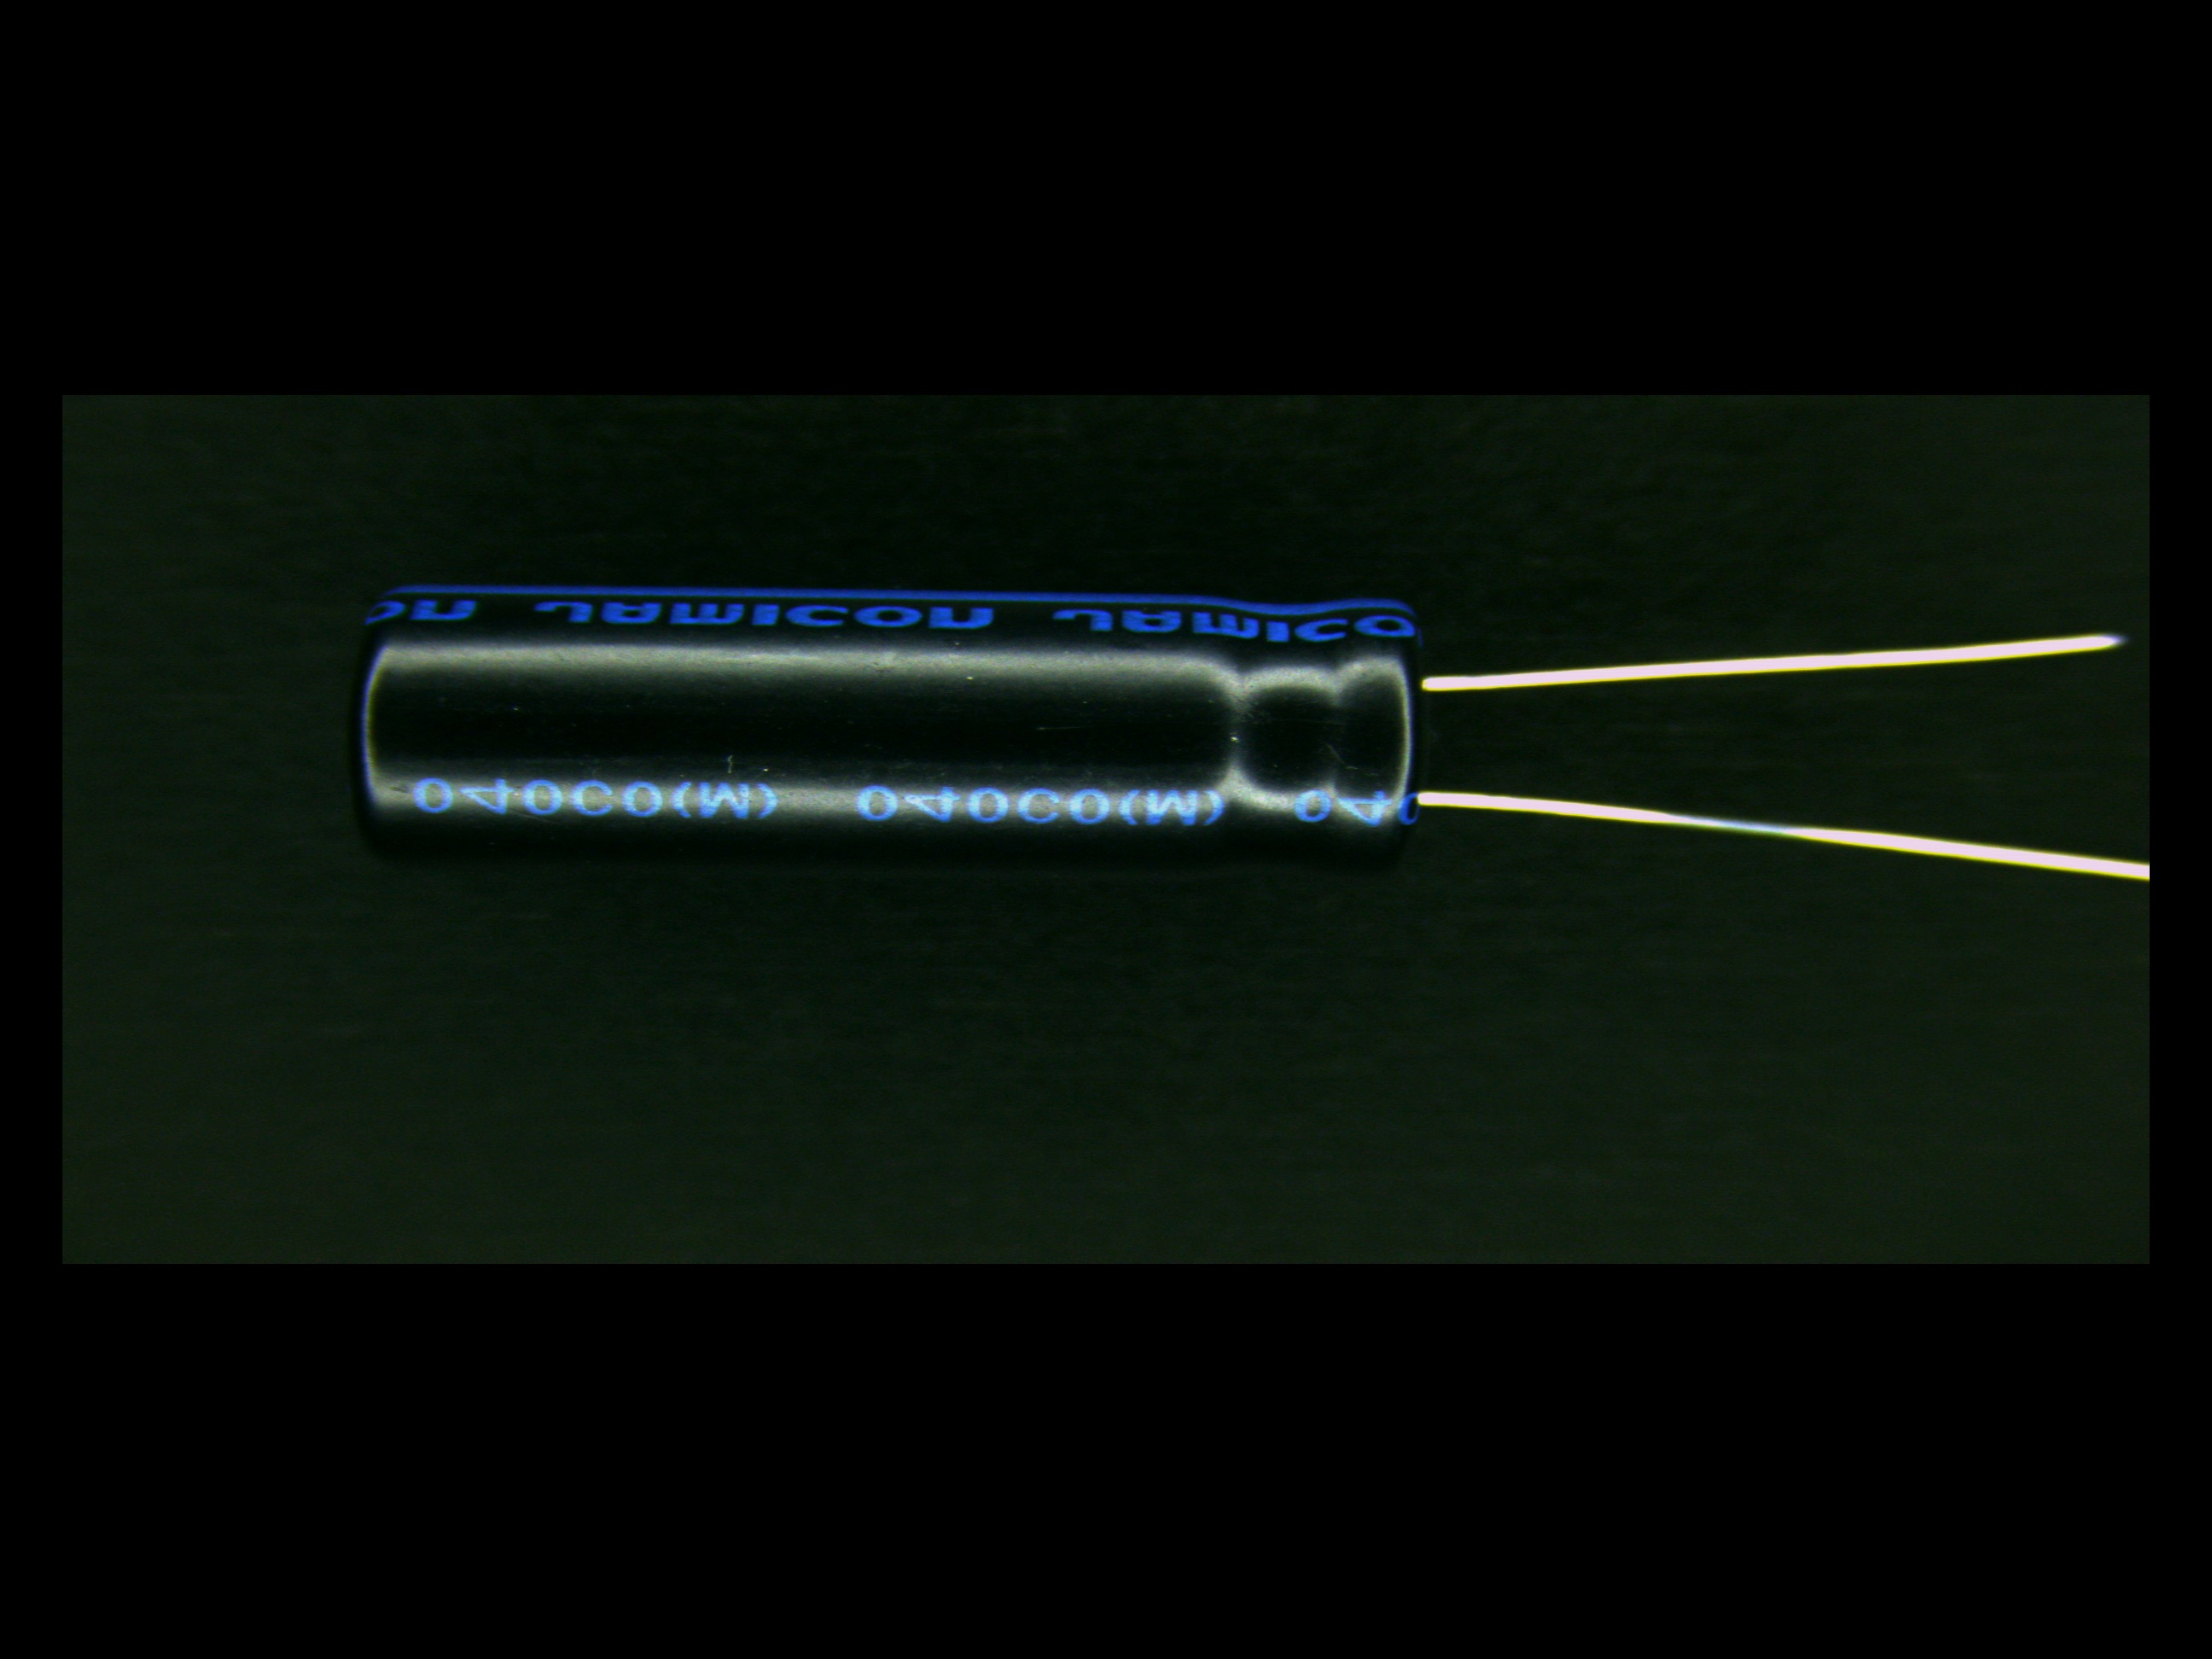c2: (345, 582, 1566, 859)
